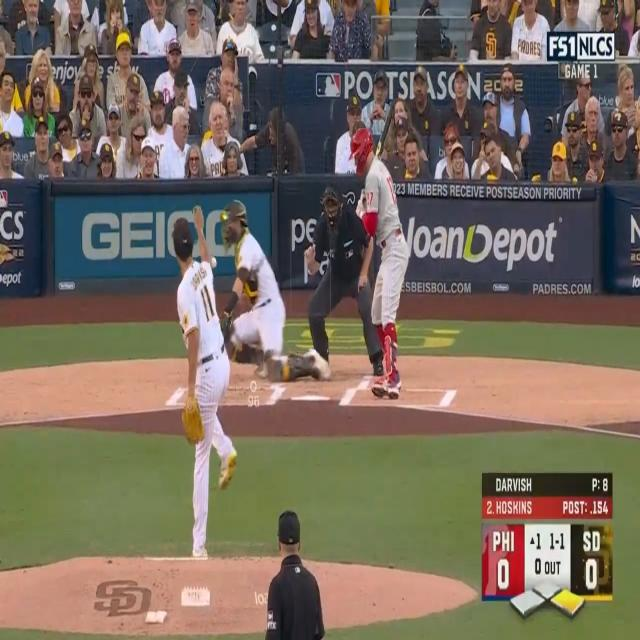baseball: (211, 257, 217, 269)
